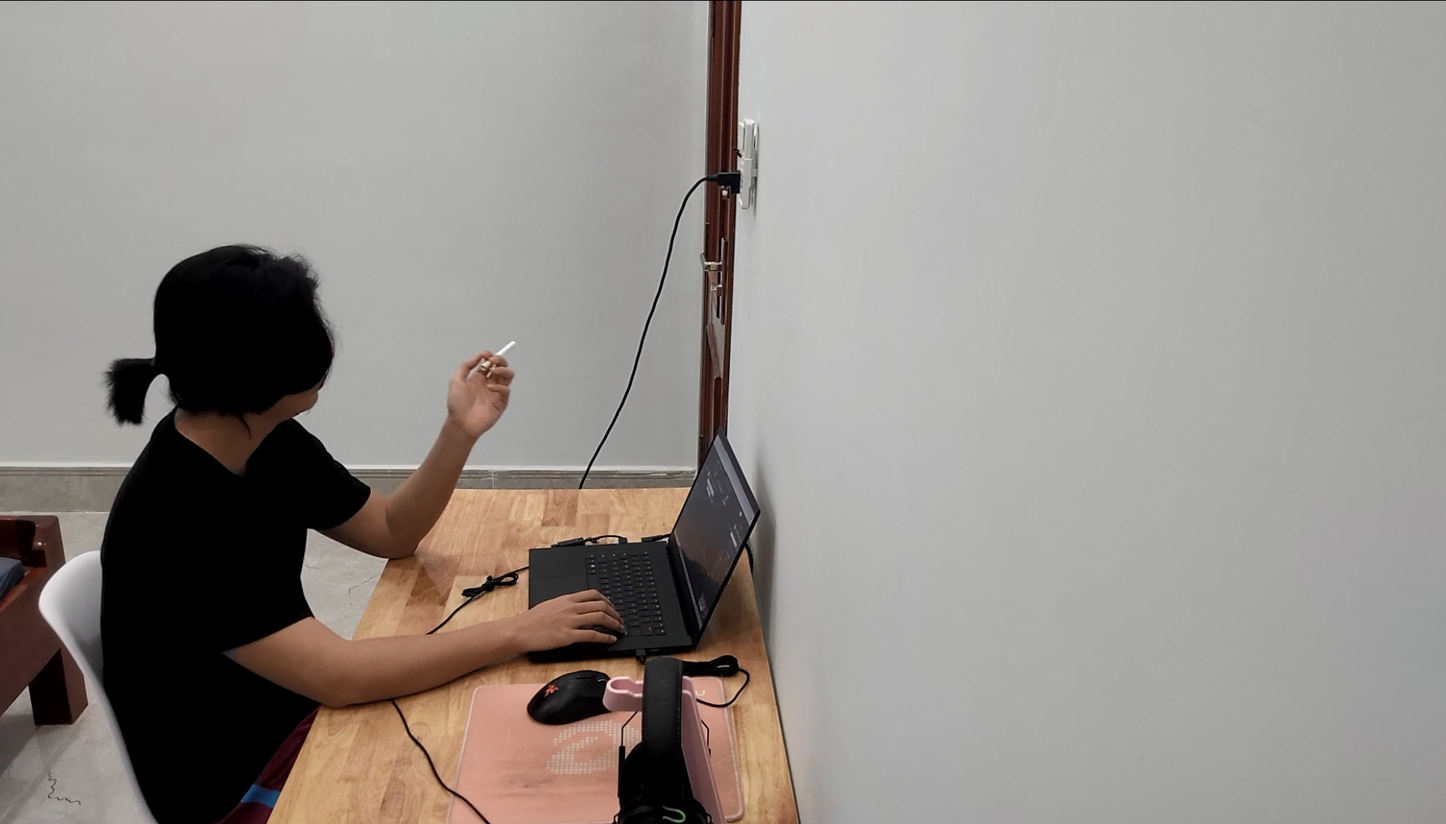cigarette: (487, 327, 522, 382)
person: (99, 218, 525, 824)
